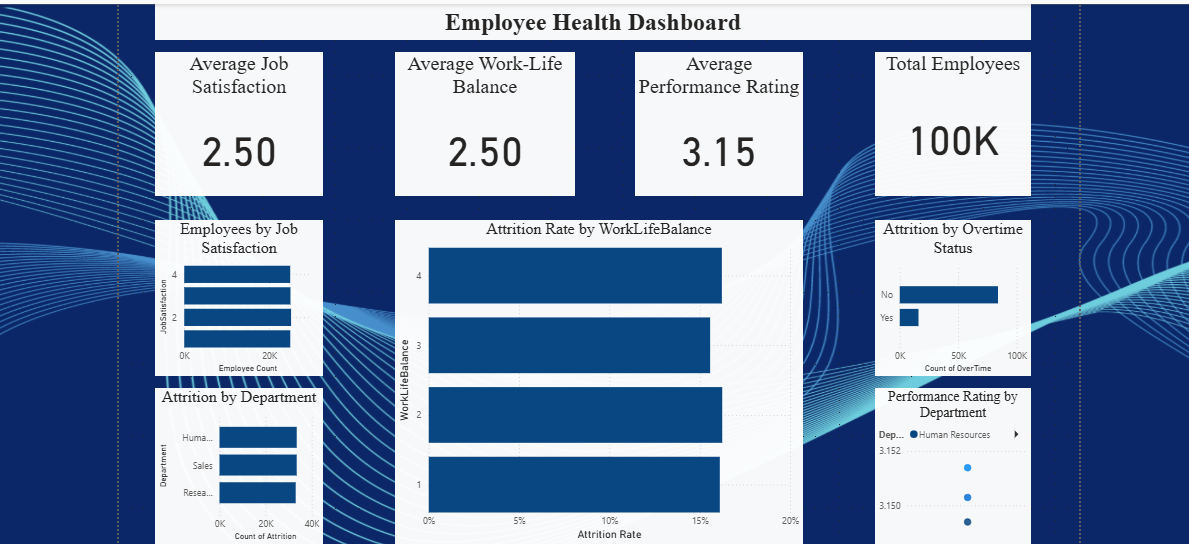

What the dashboard file says about the page in this screenshot:
{"tool":"powerbi","page":{"name":"Employee Health Dashboard ","canvas":[1280,720],"ordinal":3},"visuals":[{"type":"card","title":"Average Job Satisfaction","fields":{"Values":["Avg(Professional_IBM_HR_Attrition_100K.JobSatisfaction)"]},"box":[48,64,224,192],"z":0},{"type":"card","title":"Average Work-Life Balance","fields":{"Values":["Avg(Professional_IBM_HR_Attrition_100K.WorkLifeBalance)"]},"box":[368,64,240,192],"z":1000},{"type":"card","title":"Average Performance Rating","fields":{"Values":["Avg(Professional_IBM_HR_Attrition_100K.PerformanceRating)"]},"box":[688,64,224,192],"z":2000},{"type":"card","title":"Total Employees","fields":{"Values":["Professional_IBM_HR_Attrition_100K.Employee Count"]},"box":[1008,64,208,192],"z":3000},{"type":"barChart","title":"Employees  by Job Satisfaction","fields":{"Category":["Professional_IBM_HR_Attrition_100K.JobSatisfaction"],"Y":["Professional_IBM_HR_Attrition_100K.Employee Count"]},"box":[48,288,224,208],"z":4000},{"type":"barChart","title":"Attrition by Department","fields":{"Y":["CountNonNull(Professional_IBM_HR_Attrition_100K.Attrition)"],"Category":["Professional_IBM_HR_Attrition_100K.Department"]},"box":[48,512,224,208],"z":5000},{"type":"barChart","title":"Attrition Rate by WorkLifeBalance","fields":{"Category":["Professional_IBM_HR_Attrition_100K.WorkLifeBalance"],"Y":["Professional_IBM_HR_Attrition_100K.Attrition Rate"]},"box":[368,288,544,432],"z":6000},{"type":"barChart","title":"Attrition by Overtime Status","fields":{"Category":["Professional_IBM_HR_Attrition_100K.Attrition"],"Y":["CountNonNull(Professional_IBM_HR_Attrition_100K.OverTime)"]},"box":[1008,288,208,208],"z":7000},{"type":"scatterChart","title":"Performance Rating by Department ","fields":{"Y":["Avg(Professional_IBM_HR_Attrition_100K.PerformanceRating)"],"Series":["Professional_IBM_HR_Attrition_100K.Department"]},"box":[1008,512,208,208],"z":8000},{"type":"textbox","box":[48,0,1168,48],"z":8001}]}

Visuals, with their boxes in screenshot pixels (x1, y1, x2, y2):
"Average Job Satisfaction" card: box=[153, 48, 321, 191]
"Average Work-Life Balance" card: box=[392, 48, 571, 191]
"Average Performance Rating" card: box=[631, 48, 798, 191]
"Total Employees" card: box=[870, 48, 1025, 191]
"Employees  by Job Satisfaction" barChart: box=[153, 215, 321, 370]
"Attrition by Department" barChart: box=[153, 382, 321, 537]
"Attrition Rate by WorkLifeBalance" barChart: box=[392, 215, 798, 537]
"Attrition by Overtime Status" barChart: box=[870, 215, 1025, 370]
"Performance Rating by Department " scatterChart: box=[870, 382, 1025, 537]
textbox: box=[153, 0, 1025, 36]
